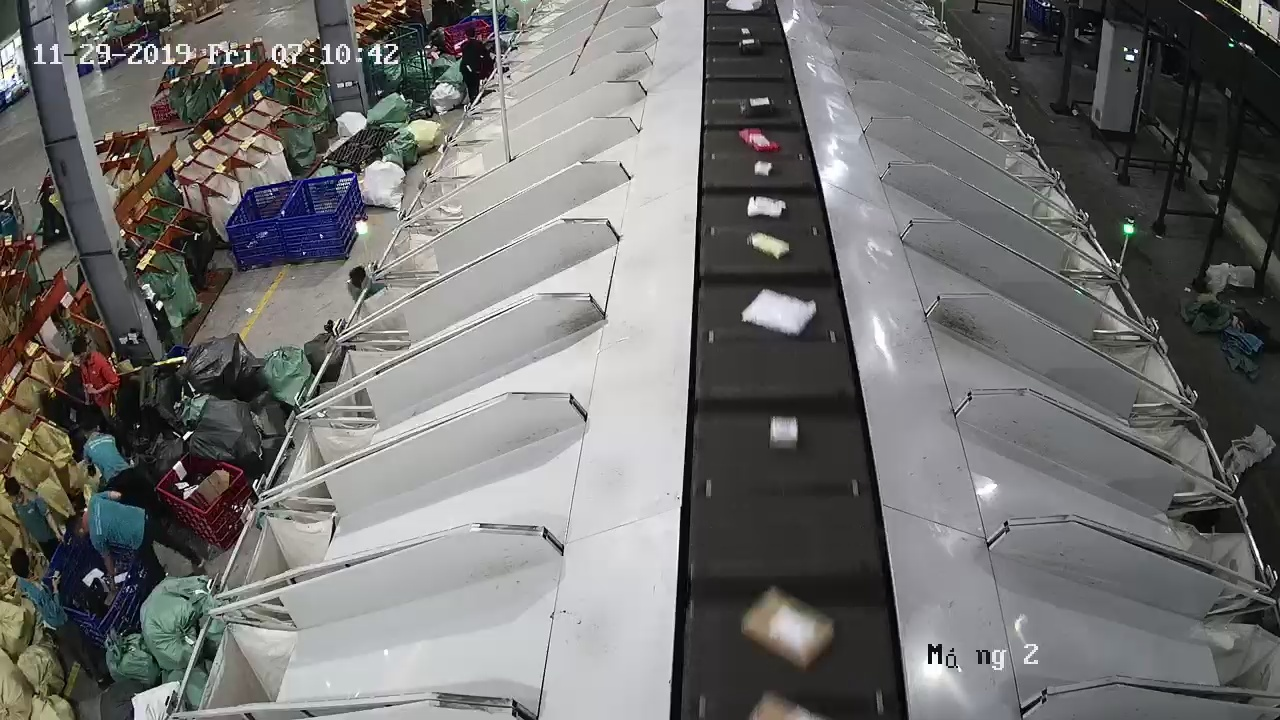parcel: (740, 587, 835, 671), (743, 290, 816, 336), (751, 231, 789, 259), (768, 415, 799, 449), (739, 128, 780, 152), (747, 195, 786, 219), (754, 160, 773, 177)
